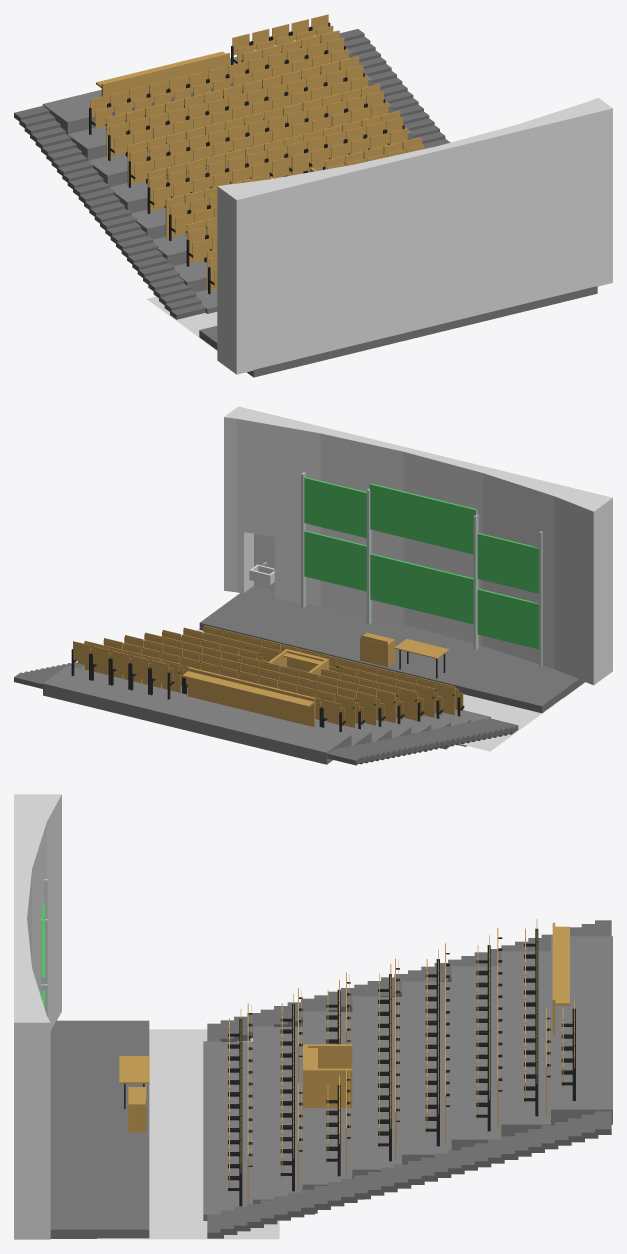
The model's file is Saal.gltf.
The picture shows the model from 3 angles, top to bottom: view 1: azimuth 30°, elevation 25°; view 2: azimuth 150°, elevation 25°; view 3: azimuth 270°, elevation 25°; orthographic projection. The views are drawn at different scales.
Parts seen in each view (by area): view 1: Cube.188, Cube.002, Cube.003, Cube, Cube.001, Cube.187, Plane, Cube.008, Cube.010, Cube.006, Cube.005, Cube.011 (+5 smaller); view 2: Cube.188, Cube.189, Cube.001, Cube.003, Cube.187, Cube.002, Plane, Cube.192, Cube.180, Cube.197, Cube, Cube.181 (+8 smaller); view 3: Cube.003, Cube.001, Cube.188, Plane, Cube, Cube.002, Cube.180, Cube.187, Cube.197, Cube.192, Cube.189.
Boxes of the visible parts, box(x1,y1,x2,y2) form: Cube.188: box(217, 97, 612, 374); Cube.002: box(14, 106, 205, 319); Cube.003: box(42, 48, 412, 313); Cube: box(339, 29, 450, 148); Cube.001: box(199, 286, 597, 377); Cube.187: box(96, 51, 229, 103); Plane: box(147, 296, 217, 350); Cube.008: box(186, 227, 209, 266); Cube.010: box(147, 175, 170, 213); Cube.006: box(128, 149, 151, 187); Cube.005: box(108, 122, 131, 160); Cube.011: box(169, 202, 192, 240); Cube.188: box(224, 406, 612, 685); Cube.189: box(301, 472, 542, 666); Cube.001: box(199, 585, 584, 713); Cube.003: box(43, 665, 490, 764); Cube.187: box(182, 667, 315, 726); Cube.002: box(327, 718, 518, 765); Plane: box(197, 628, 562, 751); Cube.192: box(360, 632, 395, 667); Cube.180: box(268, 649, 329, 676); Cube.197: box(394, 639, 449, 678); Cube: box(14, 662, 84, 688); Cube.181: box(150, 660, 174, 699); Cube.003: box(203, 936, 612, 1220); Cube.001: box(50, 1020, 149, 1238); Cube.188: box(14, 794, 61, 1239); Plane: box(97, 1029, 279, 1239); Cube: box(207, 1111, 611, 1238); Cube.002: box(207, 920, 611, 1041); Cube.180: box(303, 1044, 352, 1107); Cube.187: box(552, 922, 569, 1035); Cube.197: box(119, 1056, 149, 1108); Cube.192: box(128, 1084, 146, 1132); Cube.189: box(41, 879, 47, 1016).
Bounding box in the file's own units: 17.41 × 8.31 × 19.3.
